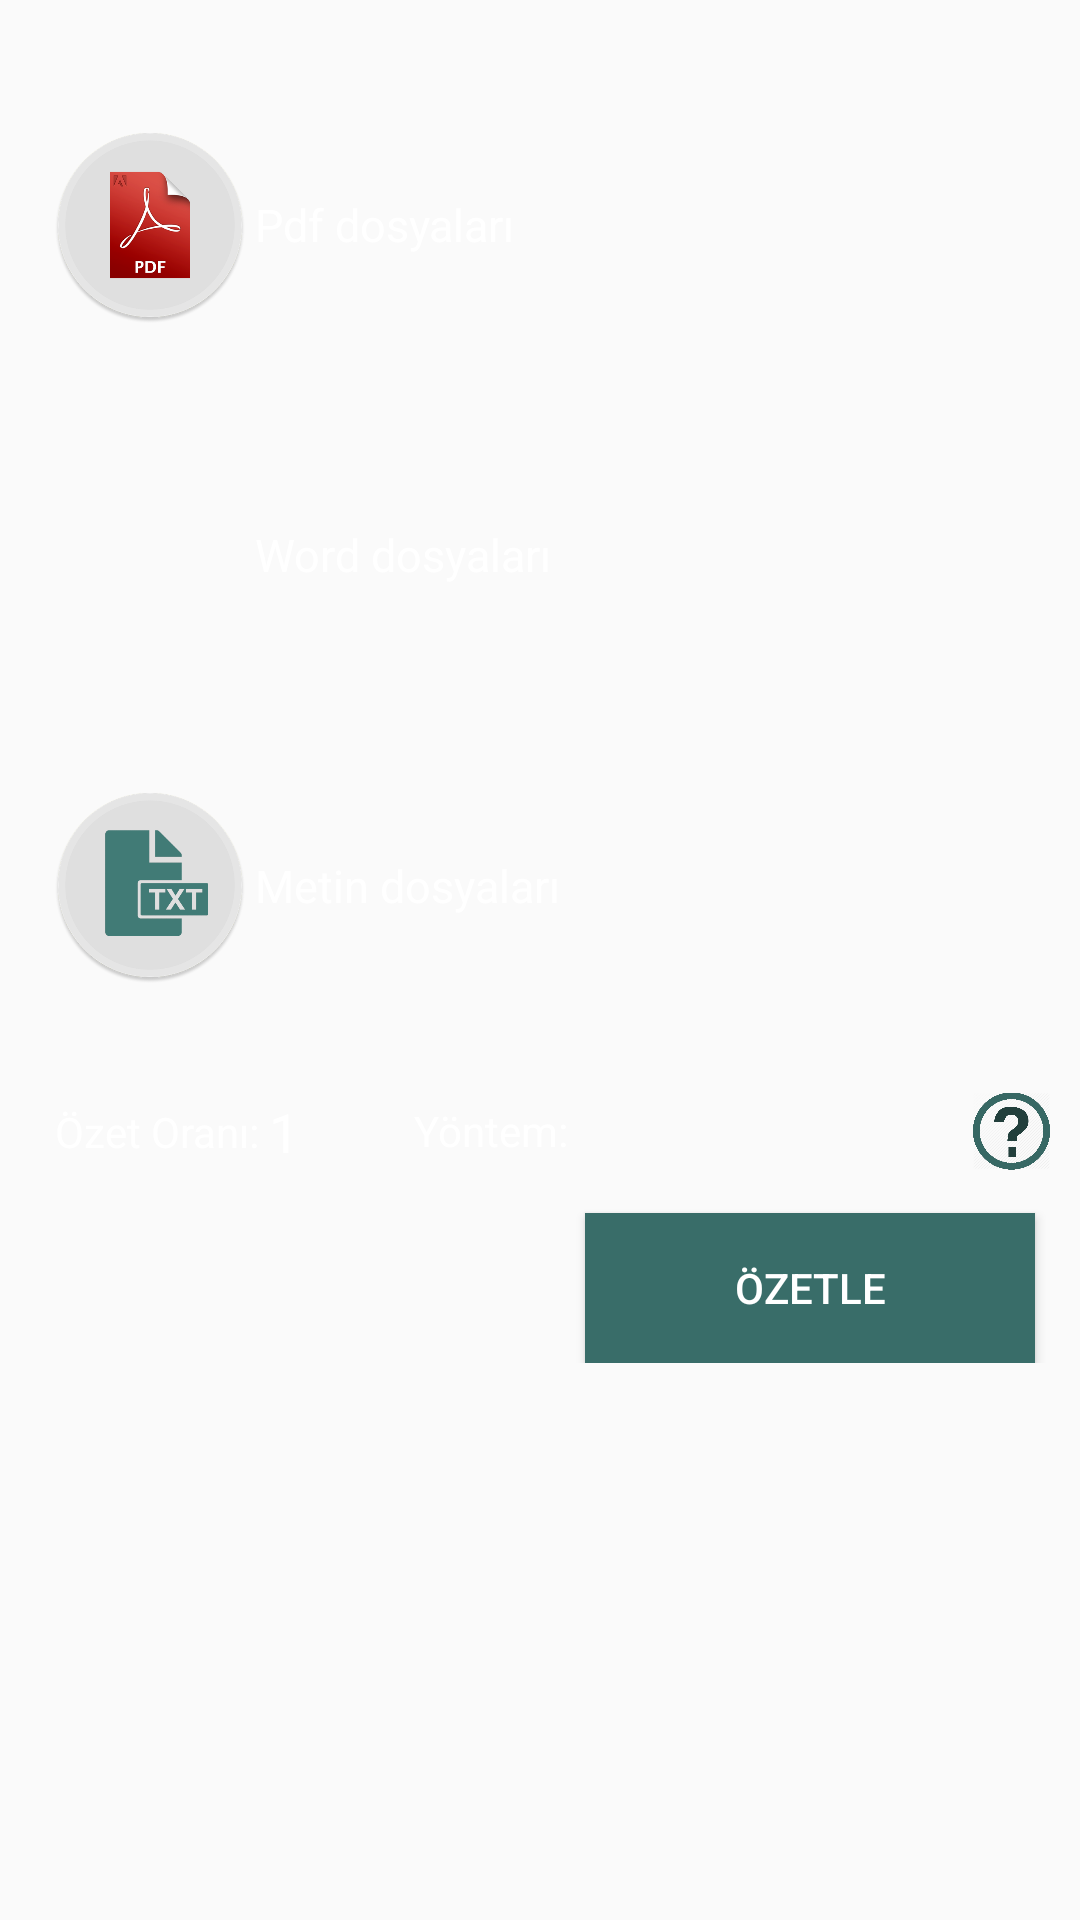

Icon click points for this 1080w x 1920h phone screenshot, format (x=x, y=y):
info: (x=1011, y=1131)
